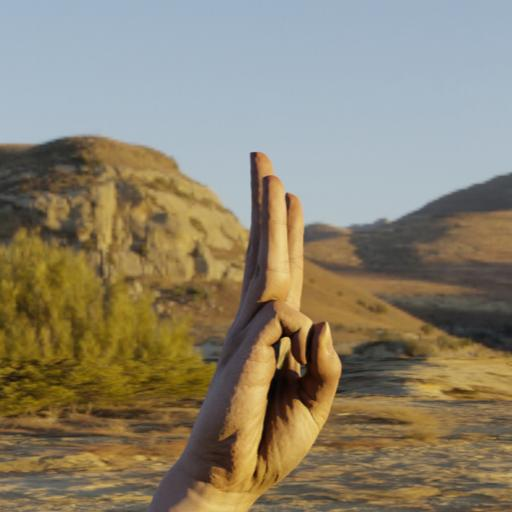W: (171, 136, 372, 512)
